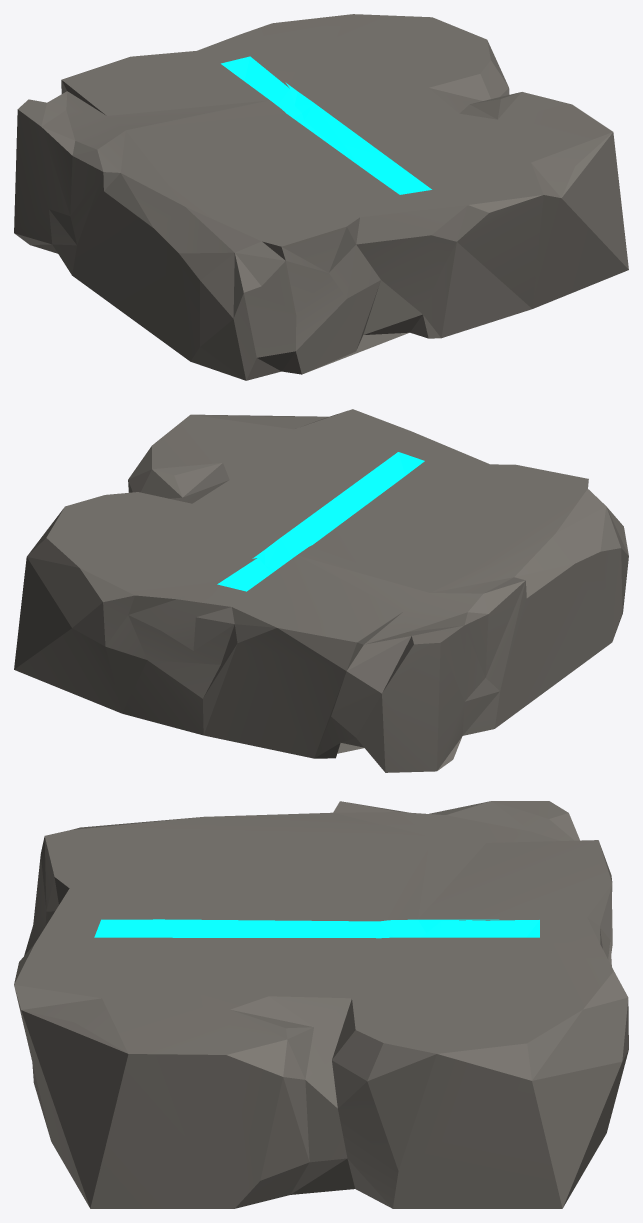
The picture shows the model from 3 angles, top to bottom: view 1: azimuth 30°, elevation 25°; view 2: azimuth 150°, elevation 25°; view 3: azimuth 270°, elevation 25°; orthographic projection. The views are drawn at different scales.
Parts seen in each view (by area): view 1: Obj3d66-1649282-23-370; view 2: Obj3d66-1649282-23-370; view 3: Obj3d66-1649282-23-370.
Boxes of the visible parts, x1,y1,x2,y2 form: Obj3d66-1649282-23-370: (14, 14, 628, 380); Obj3d66-1649282-23-370: (14, 409, 628, 772); Obj3d66-1649282-23-370: (14, 801, 628, 1208).
Bounding box in the file's own units: 959 × 274 × 985.
Materials: 1 (1 with a texture image).
